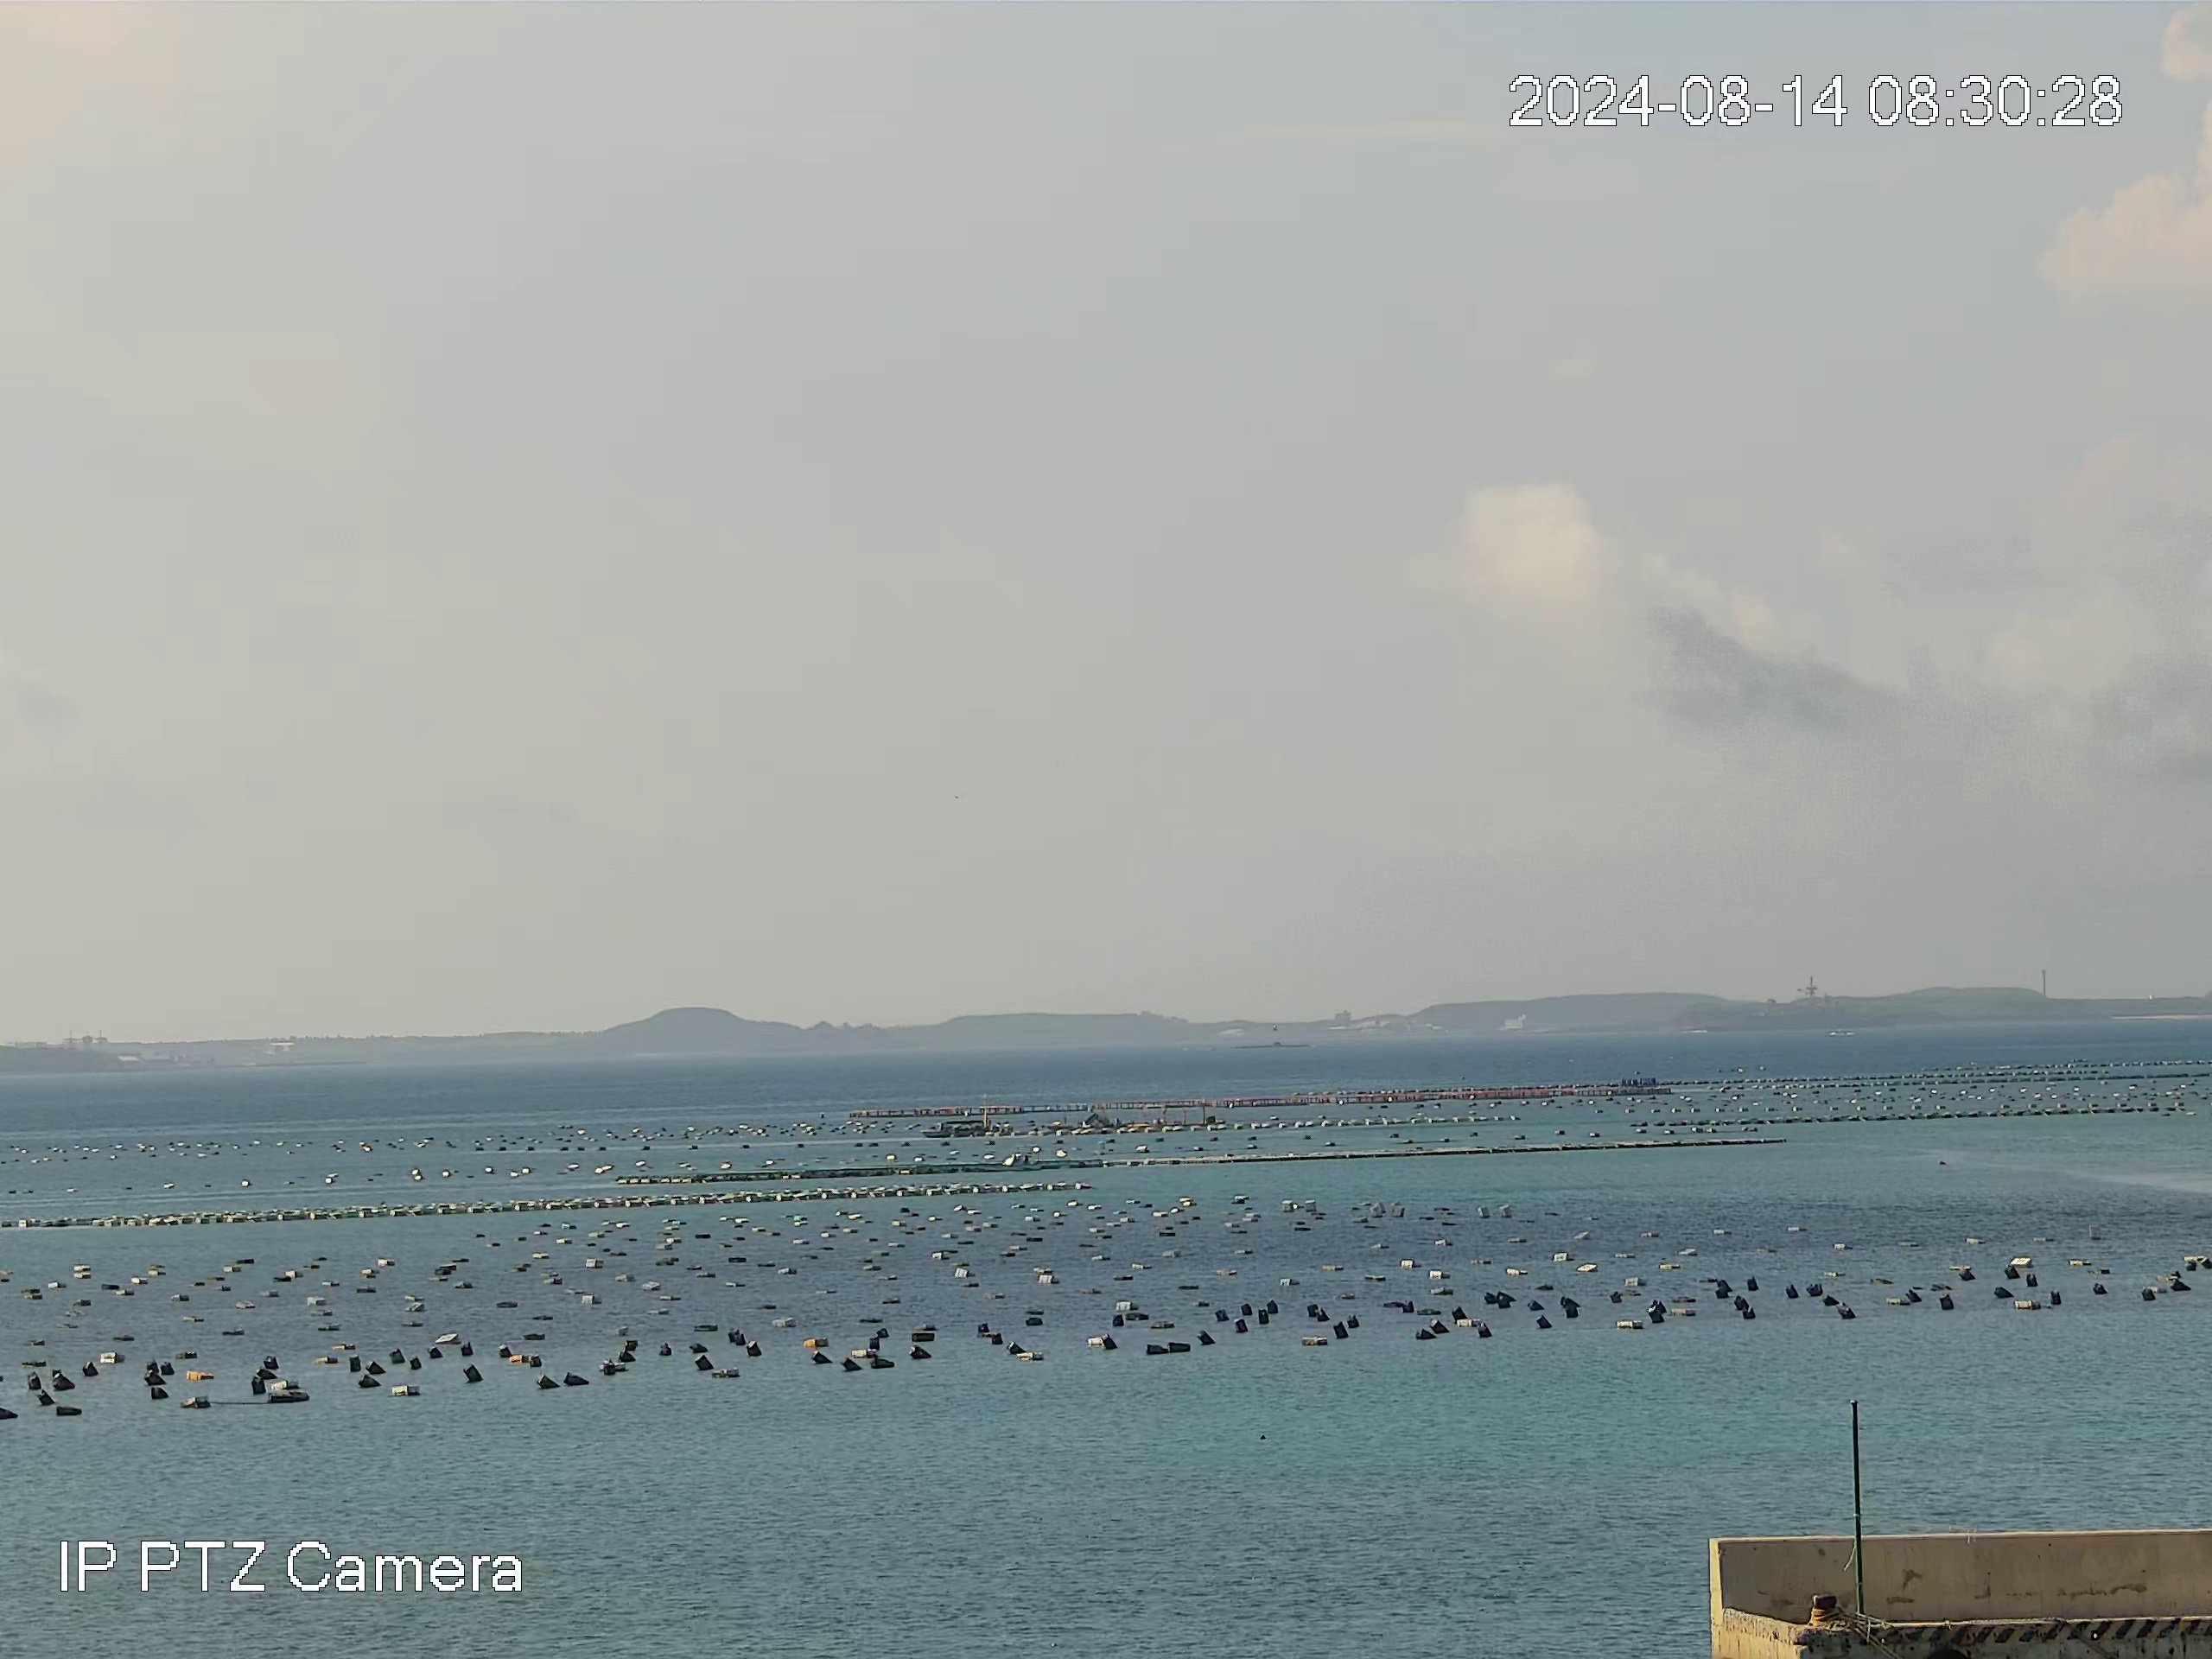boat: (921, 1121, 993, 1138)
